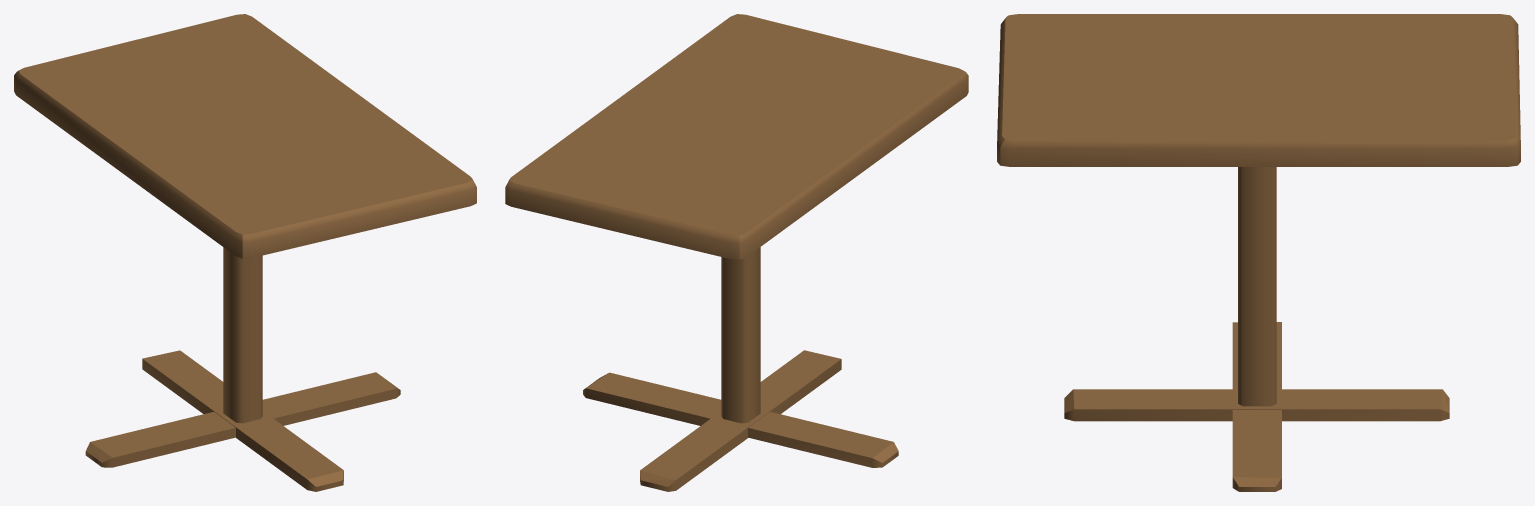
The model's file is table_3person.fbx.
3 renders of one model, left to right at view 1: azimuth 30°, elevation 25°; view 2: azimuth 150°, elevation 25°; view 3: azimuth 270°, elevation 25°, orthographic. The views are drawn at different scales.
Visible parts, largest first — view 1: table_3person; view 2: table_3person; view 3: table_3person.
Boxes of the visible parts, x1,y1,x2,y2 form: table_3person: [14, 14, 476, 491]; table_3person: [505, 14, 968, 491]; table_3person: [997, 14, 1520, 491].
Size of the model in its own units: 98.31 by 94.26 by 134.
